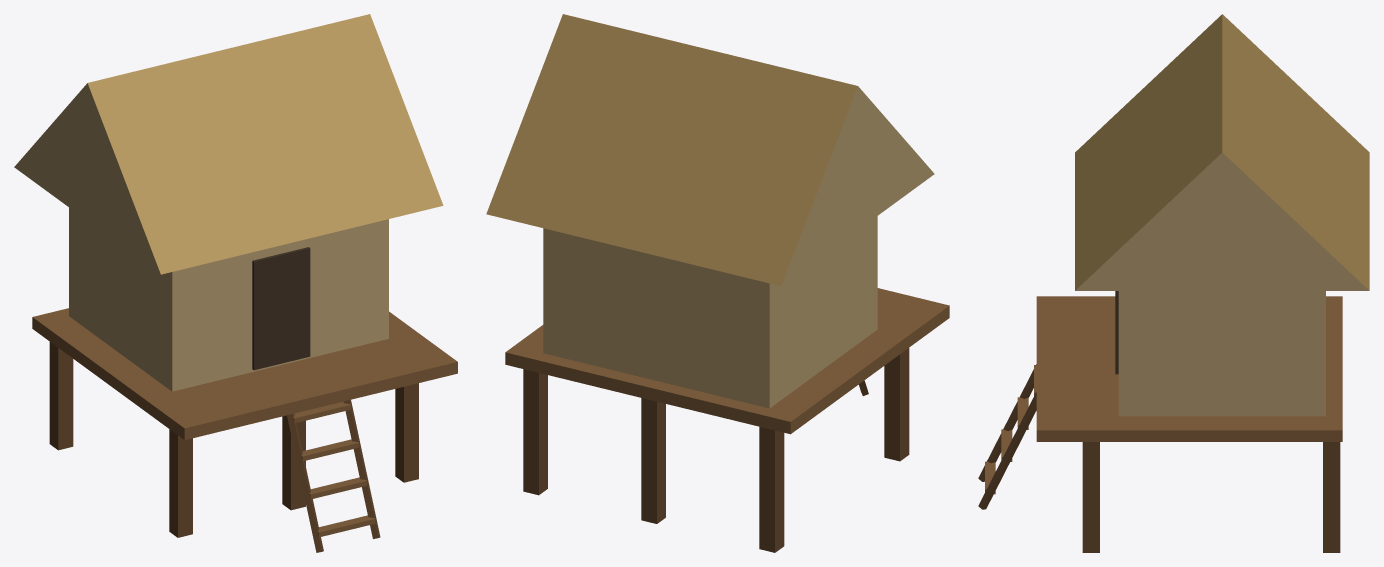
File: stilt_hut.glb
3 views of the same model, side by side, from view 1: azimuth 30°, elevation 25°; view 2: azimuth 150°, elevation 25°; view 3: azimuth 270°, elevation 25° (orthographic). The views are drawn at different scales.
Parts seen in each view (by area): view 1: stilt_hut2; view 2: stilt_hut2; view 3: stilt_hut2.
Part boxes in pixels (x1=…): stilt_hut2: x1=14, y1=14, x2=457, y2=552; stilt_hut2: x1=486, y1=14, x2=949, y2=552; stilt_hut2: x1=978, y1=14, x2=1369, y2=552.
Bounding box in the file's own units: 3 × 4.17 × 3.59.
